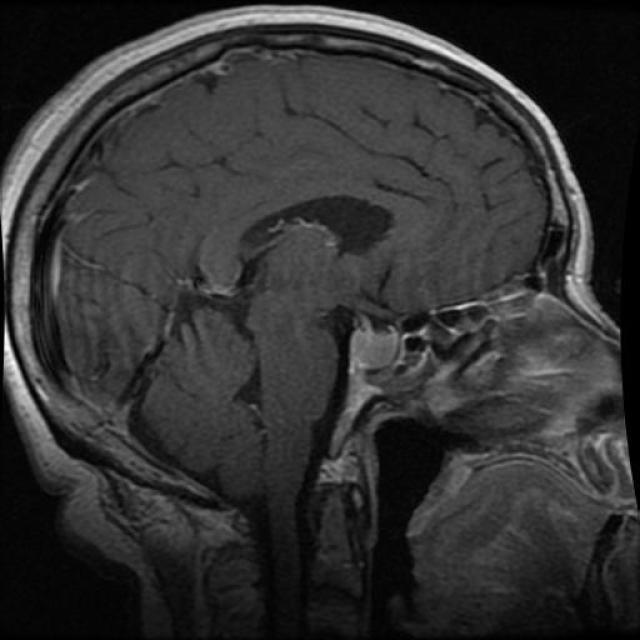pituitary: (324, 294, 402, 464)
